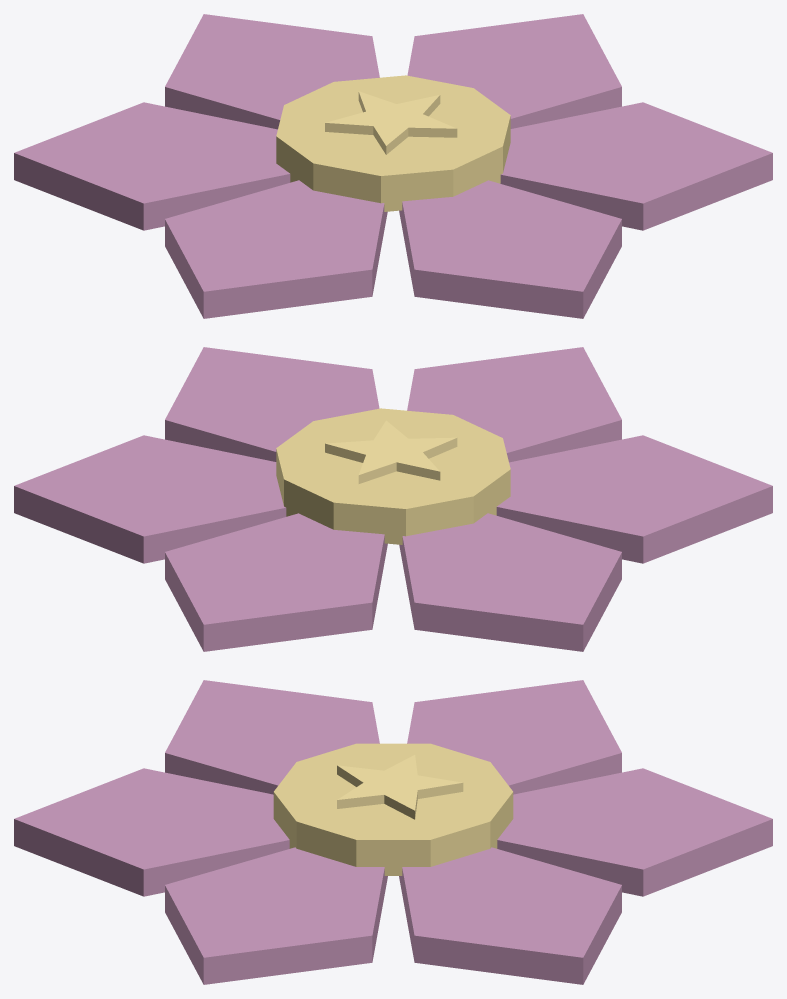
Rendered from PetalShield.fbx.
3 renders of one model, top to bottom at view 1: azimuth 30°, elevation 25°; view 2: azimuth 150°, elevation 25°; view 3: azimuth 270°, elevation 25°, orthographic.
Parts seen in each view (by area): view 1: Prop_PetalShield; view 2: Prop_PetalShield; view 3: Prop_PetalShield.
Boxes of the visible parts, x1=… form: Prop_PetalShield: x1=14, y1=14, x2=772, y2=318; Prop_PetalShield: x1=14, y1=347, x2=772, y2=651; Prop_PetalShield: x1=14, y1=680, x2=772, y2=984.
Bounding box in the file's own units: 0.6582 × 0.07 × 0.76.
